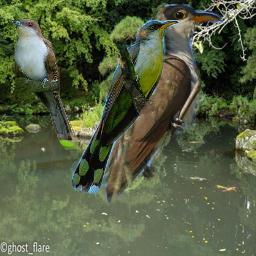Cuckoo: (95, 4, 253, 203), (72, 20, 179, 194), (10, 18, 78, 150)
